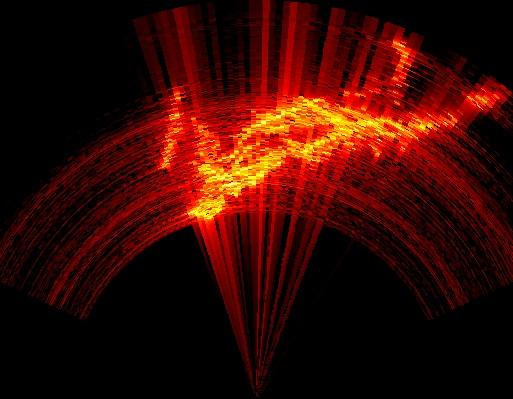shipwreck: (185, 78, 511, 218), (391, 40, 419, 105), (161, 90, 183, 168)
